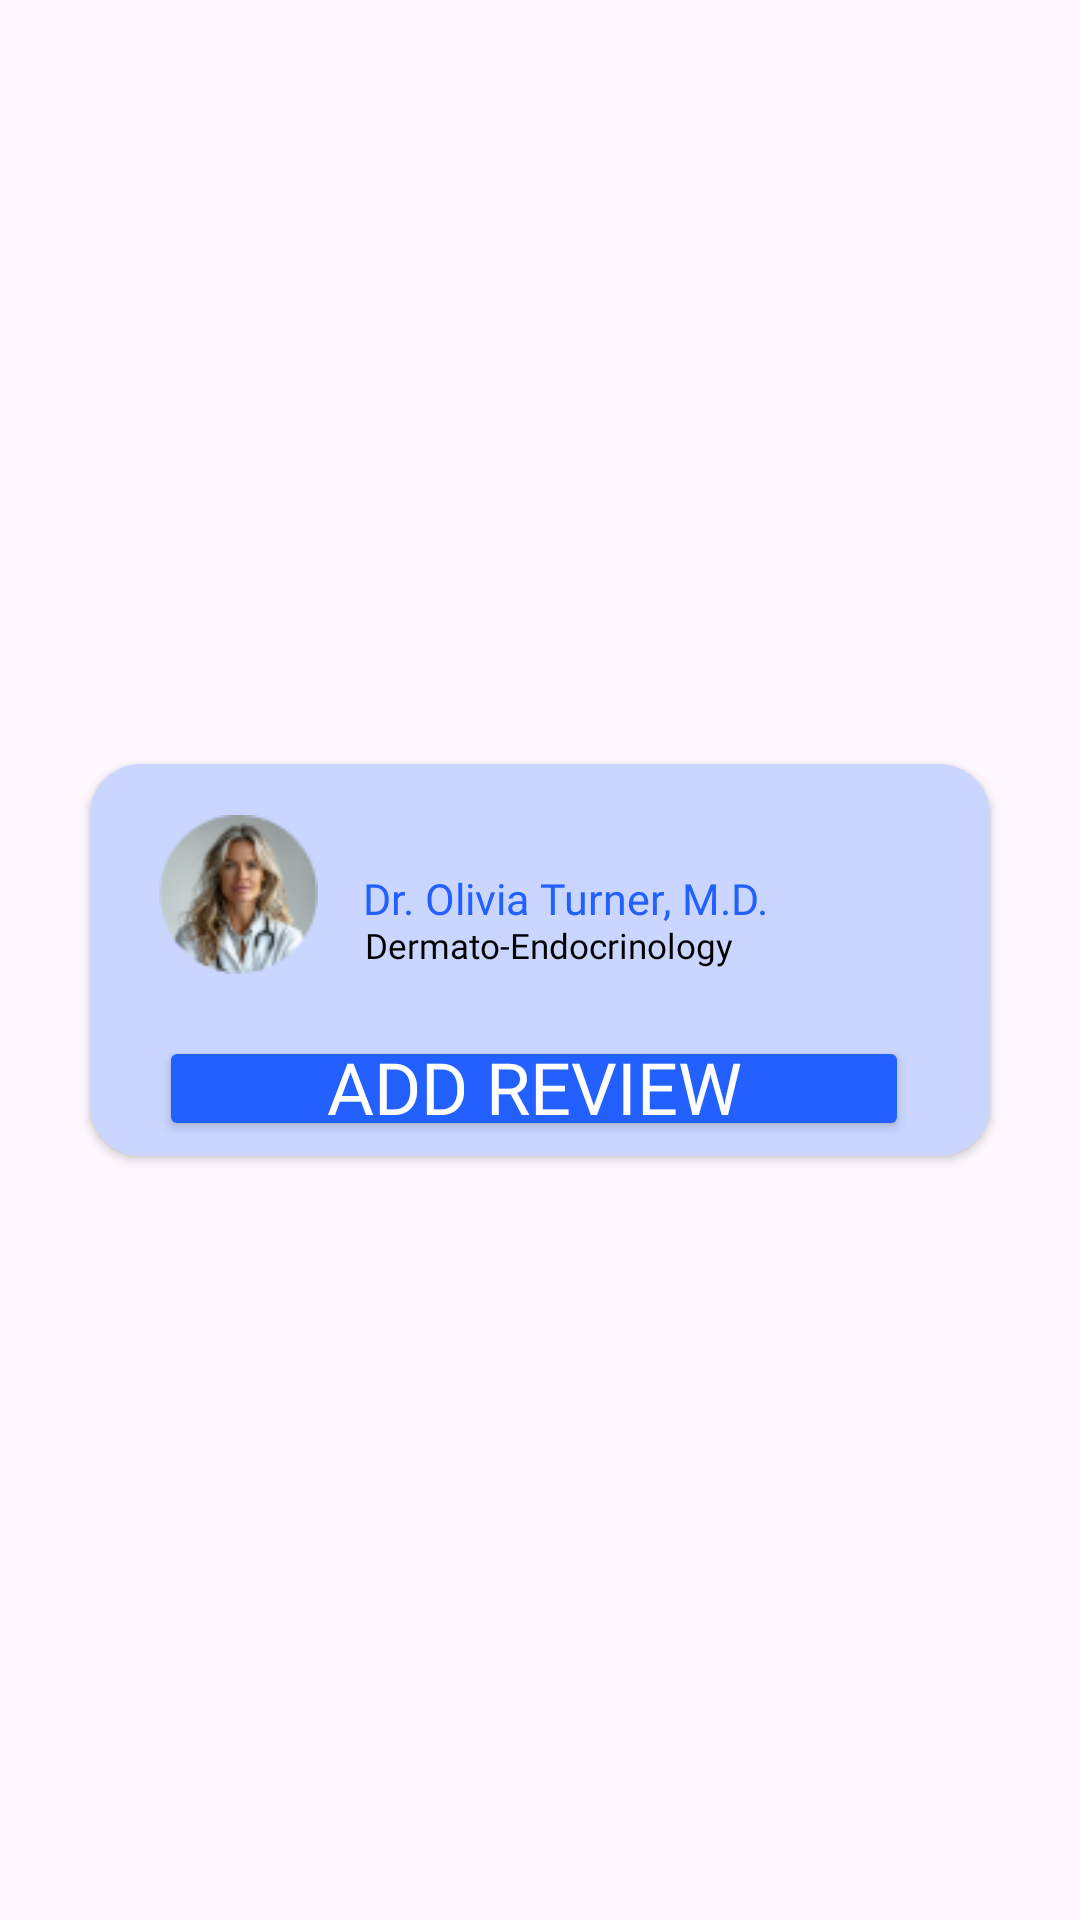

Icon click points for this 1080px×1920px phone screenshot, format (x,y):
doctor one: (238,894)
